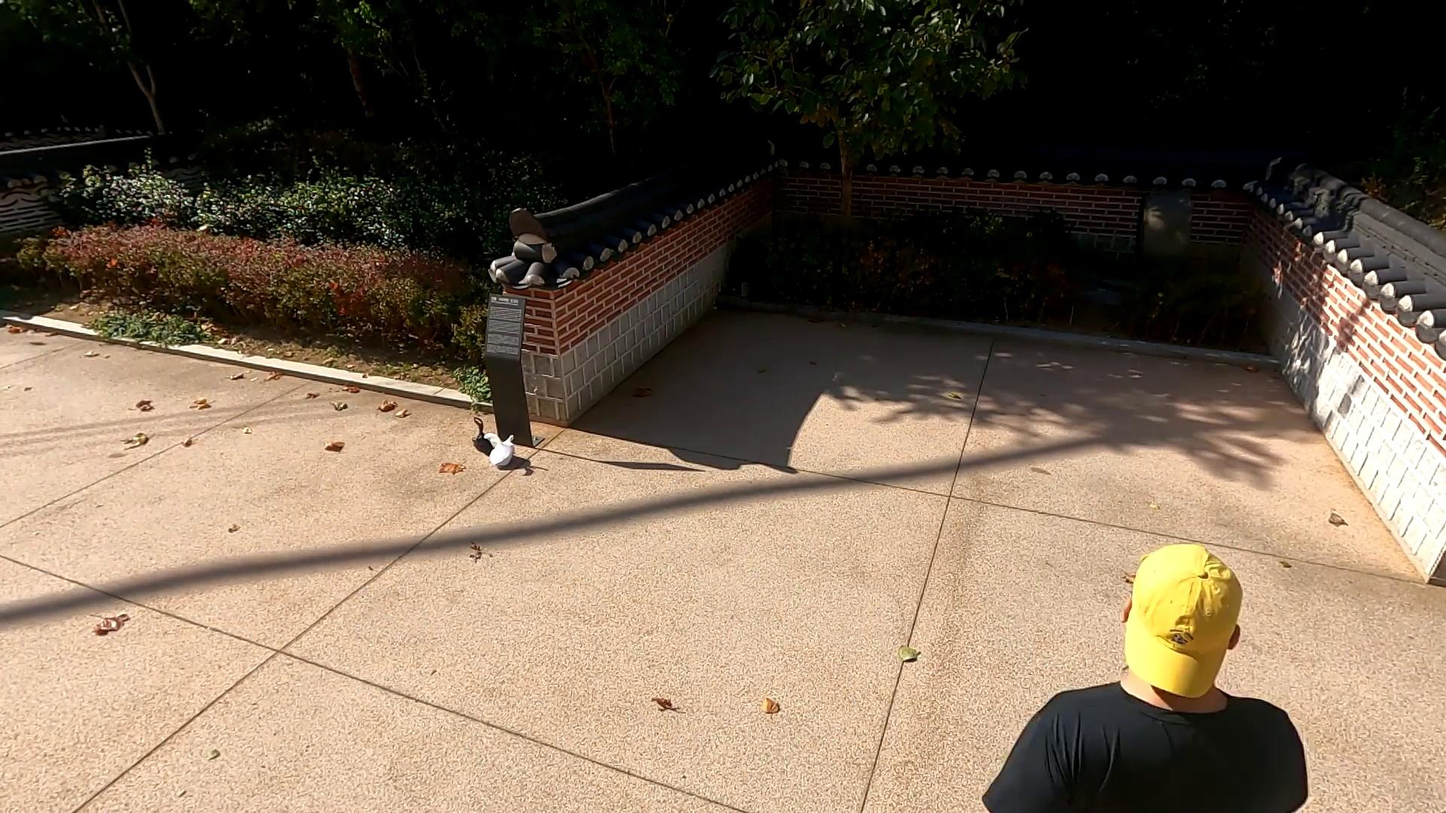person: (964, 522, 1326, 813)
trash: (483, 431, 519, 468), (469, 415, 497, 458)
